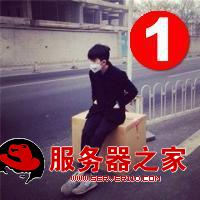yes_mask: (85, 43, 110, 74)
